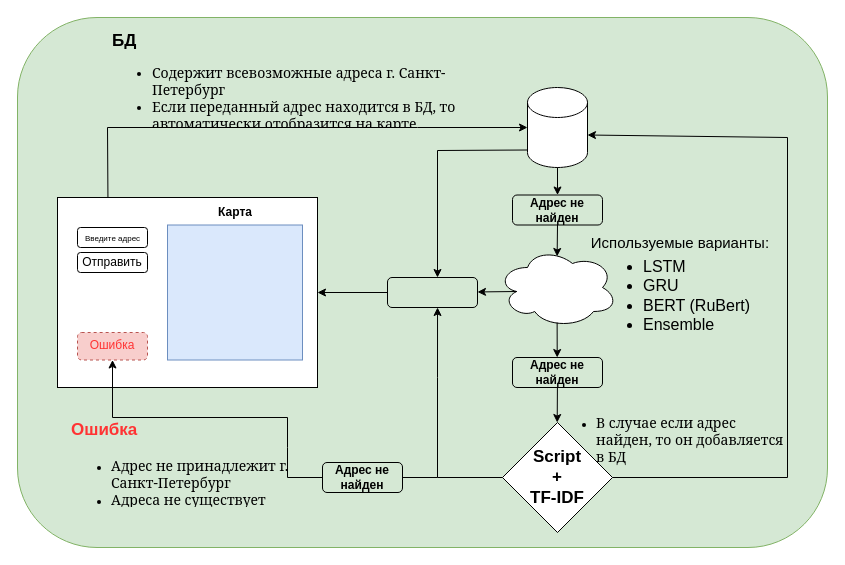
Image size: 845x565. Some labels were removed from this diagram. The shapes that lost their labels are listed below. From the top down, each one's centre as x and y in pixels, then its label:
the point at 557,127: БД
the point at 432,292: Адрес найден
the point at 557,287: RNN
